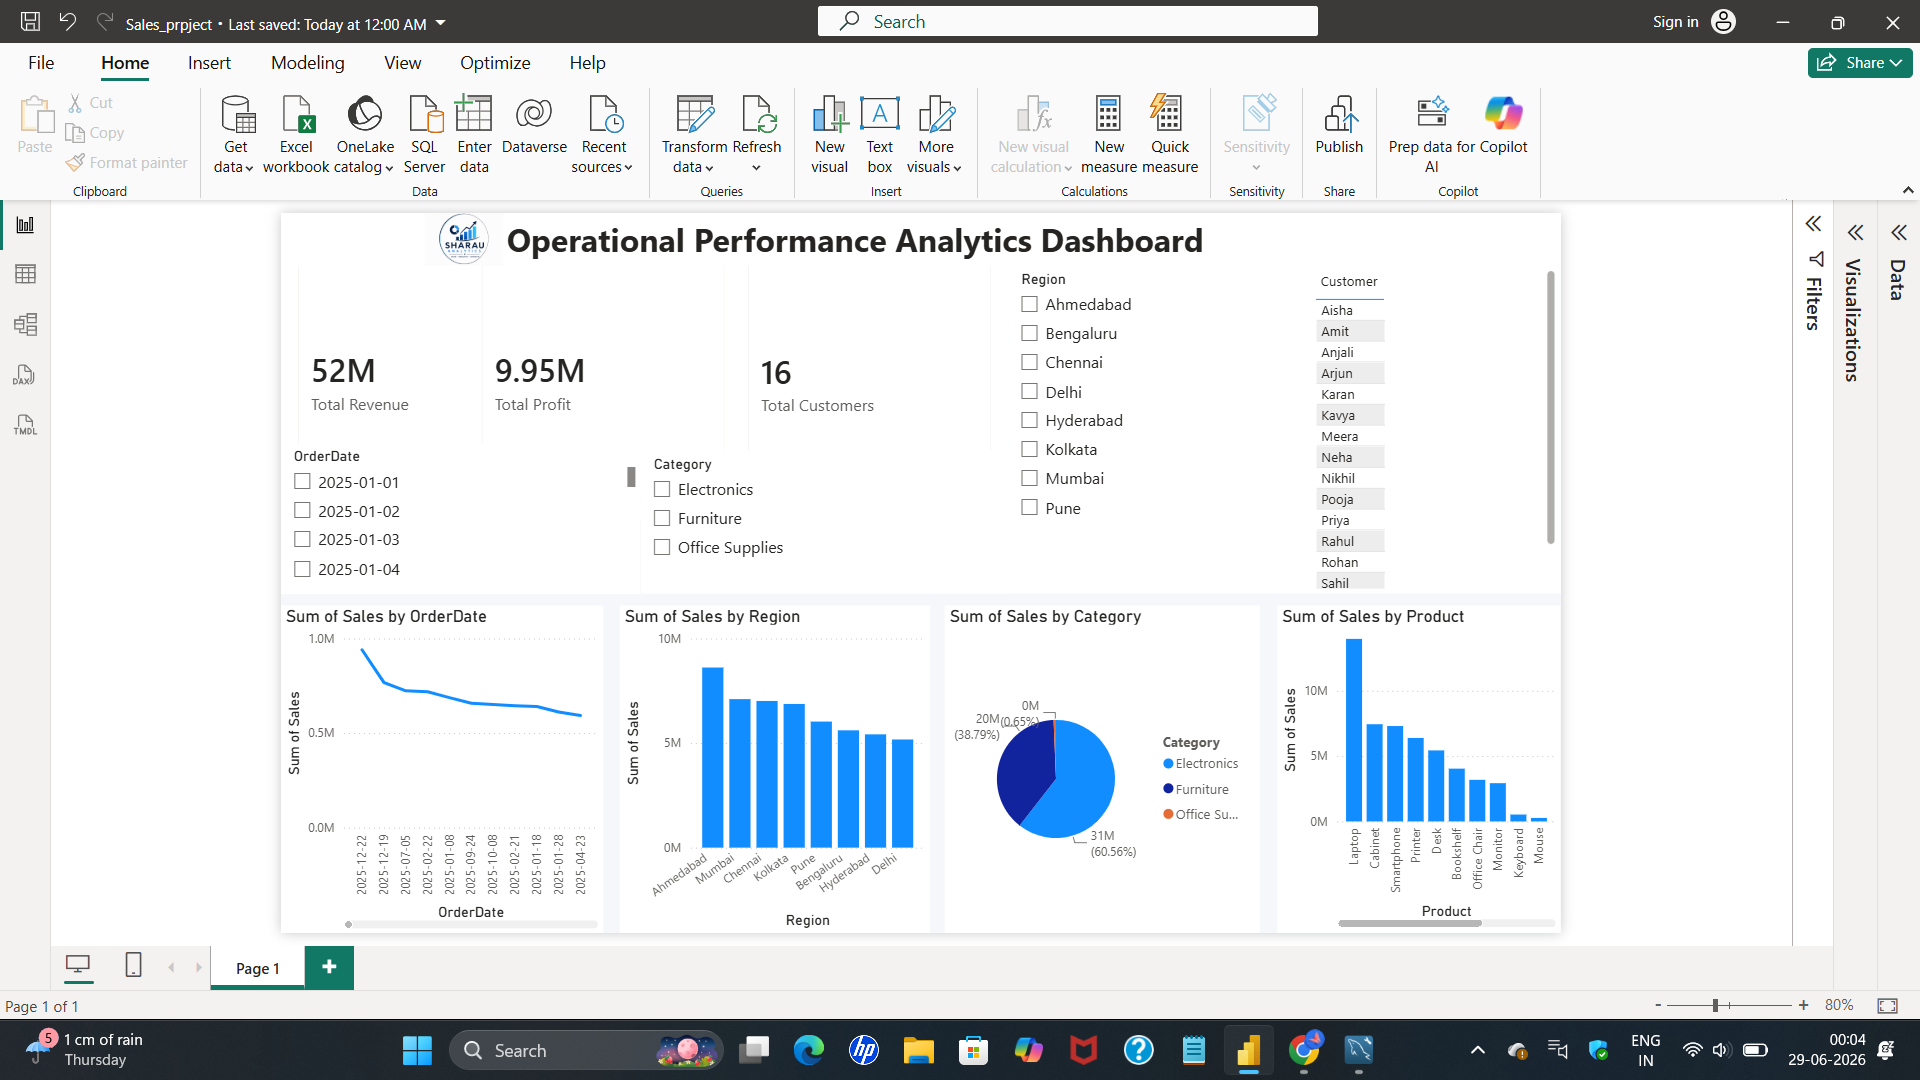

Layout of this report page (visuals, bound fields, positions):
{"tool":"powerbi","page":{"name":"Page 1","canvas":[1280,720],"ordinal":0},"visuals":[{"type":"cardVisual","fields":{"Data":["sales_project sales_data.Total Revenue"]},"box":[0,26.5,277.5,281.1],"z":0},{"type":"cardVisual","fields":{"Data":["sales_project sales_data.Total Profit"]},"box":[183.4,26.5,277.5,281.1],"z":2000},{"type":"cardVisual","fields":{"Data":["sales_project sales_data.Total Customers"]},"box":[450,27.7,277.5,281.1],"z":3000},{"type":"lineChart","fields":{"Category":["sales_project sales_data.OrderDate"],"Y":["Sum(sales_project sales_data.Sales)"]},"box":[0,392.1,322.1,328.2],"z":4000},{"type":"columnChart","fields":{"Category":["sales_project sales_data.Region"],"Y":["Sum(sales_project sales_data.Sales)"]},"box":[339,392.1,310.1,328.2],"z":5000},{"type":"pieChart","fields":{"Category":["sales_project sales_data.Category"],"Y":["Sum(sales_project sales_data.Sales)"]},"box":[663.5,392.1,314.9,328.2],"z":6000},{"type":"clusteredColumnChart","fields":{"Category":["sales_project sales_data.Product"],"Y":["Sum(sales_project sales_data.Sales)"]},"box":[996.5,392.1,283.5,326.9],"z":7000},{"type":"slicer","fields":{"Values":["sales_project sales_data.Region"]},"box":[727.5,53.1,301.6,328.2],"z":8000},{"type":"slicer","fields":{"Values":["sales_project sales_data.Category"]},"box":[359.5,237.7,368,143.6],"z":9000},{"type":"tableEx","fields":{"Values":["sales_project sales_data.Customer"]},"box":[1029.1,53.1,250.9,328.2],"z":11000},{"type":"slicer","fields":{"Values":["sales_project sales_data.OrderDate"]},"box":[0,230.4,359.5,150.8],"z":12000},{"type":"textbox","box":[0,0,1280,53.1],"z":12002},{"type":"image","box":[115.8,0,133.9,53.1],"z":12003}]}

Visuals, with their boxes on the page's 1280x720 design canvas (x1, y1, x2, y2). These are canvas units, not pixel positions in the 1920x1080 screenshot, which may show the page scaled, cropped or inside an application window:
cardVisual - sales_project sales_data.Total Revenue: 0/26/278/308
cardVisual - sales_project sales_data.Total Profit: 183/26/461/308
cardVisual - sales_project sales_data.Total Customers: 450/28/728/309
lineChart - sales_project sales_data.OrderDate x Sum(sales_project sales_data.Sales): 0/392/322/720
columnChart - sales_project sales_data.Region x Sum(sales_project sales_data.Sales): 339/392/649/720
pieChart - sales_project sales_data.Category x Sum(sales_project sales_data.Sales): 664/392/978/720
clusteredColumnChart - sales_project sales_data.Product x Sum(sales_project sales_data.Sales): 996/392/1280/719
slicer - sales_project sales_data.Region: 728/53/1029/381
slicer - sales_project sales_data.Category: 360/238/728/381
tableEx - sales_project sales_data.Customer: 1029/53/1280/381
slicer - sales_project sales_data.OrderDate: 0/230/360/381
textbox: 0/0/1280/53
image: 116/0/250/53
